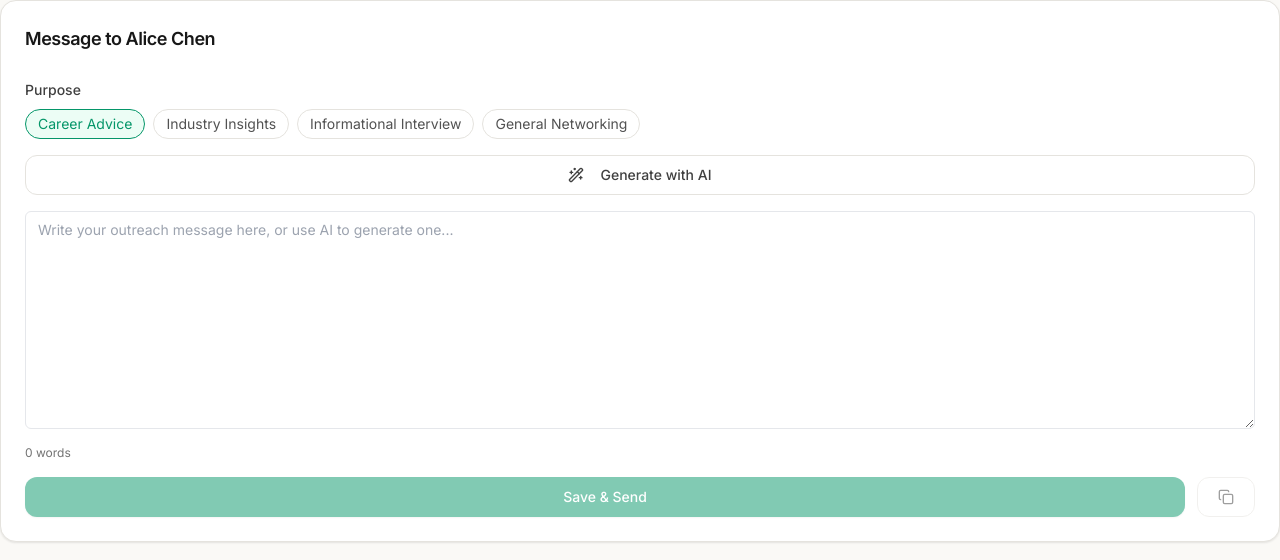
Test: MessageComposer › updates word count as user types
Replace the text in the text box with placeholder "Write your outreach" with "Hello world test": (640, 320) [25,211,1255,429]
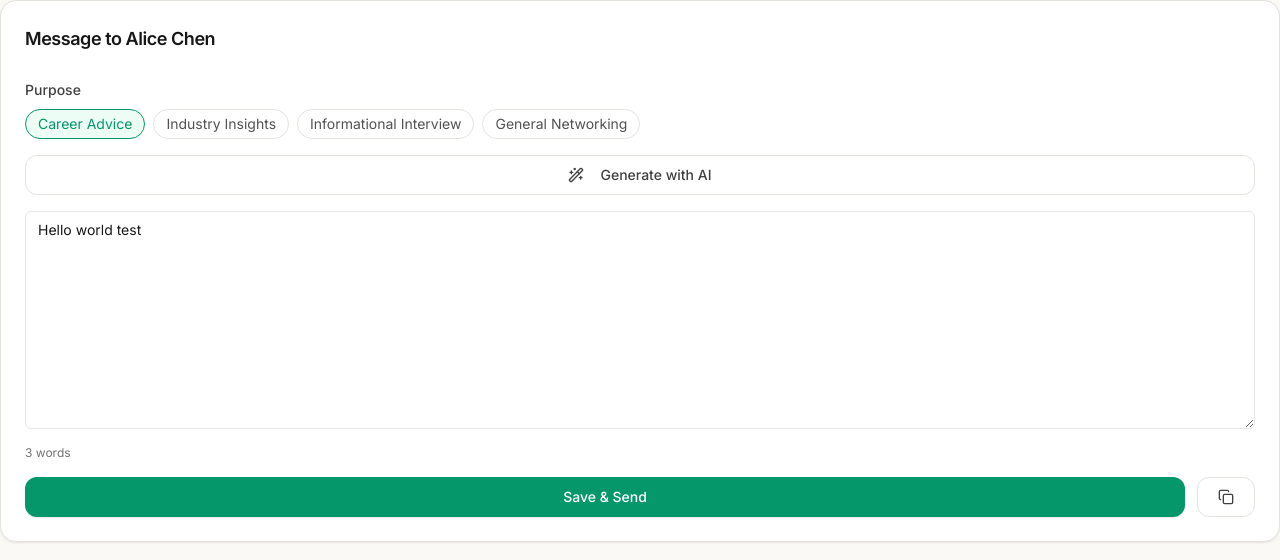
Now the text "3 words" is shown, box [25,445,71,460]
